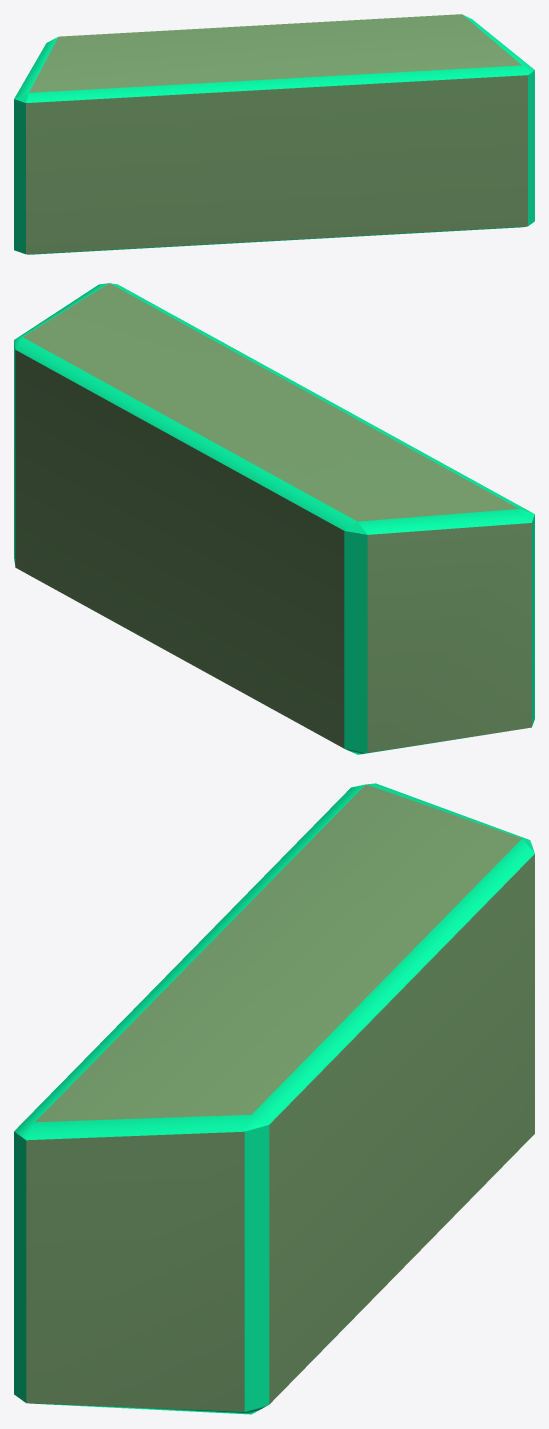
The model's file is GreenL2.fbx.
The picture shows the model from 3 angles, top to bottom: view 1: azimuth 30°, elevation 25°; view 2: azimuth 150°, elevation 25°; view 3: azimuth 270°, elevation 25°; orthographic projection. The views are drawn at different scales.
Visible parts, largest first — view 1: polySurface69; view 2: polySurface69; view 3: polySurface69.
Boxes of the visible parts, box(x1,y1,x2,y2) form: polySurface69: box(14, 14, 534, 254); polySurface69: box(14, 283, 534, 754); polySurface69: box(14, 783, 534, 1414).
Size of the model in its own units: 2.04 by 0.8012 by 1.26.
